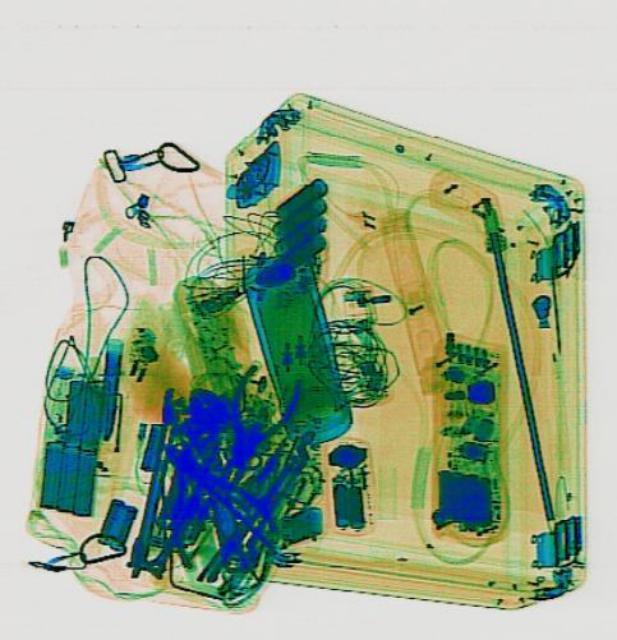Pliers: (190, 356, 308, 506)
